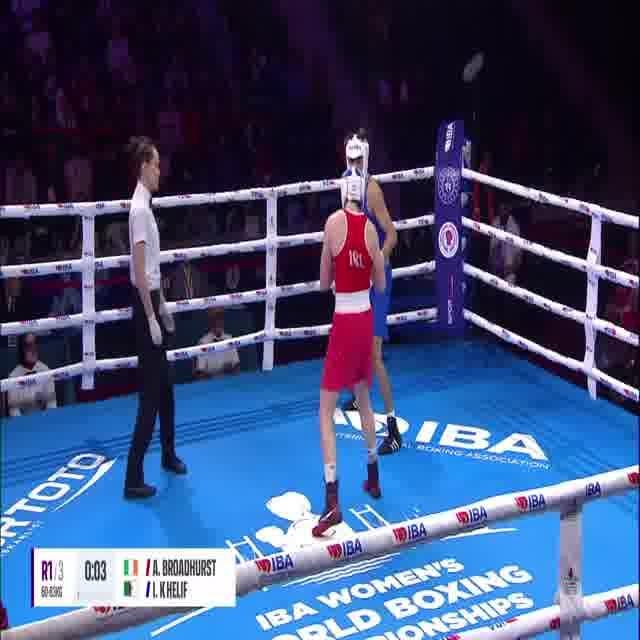blue-player: (338, 132, 404, 458)
red-player: (313, 169, 385, 537)
referee: (118, 132, 190, 507)
